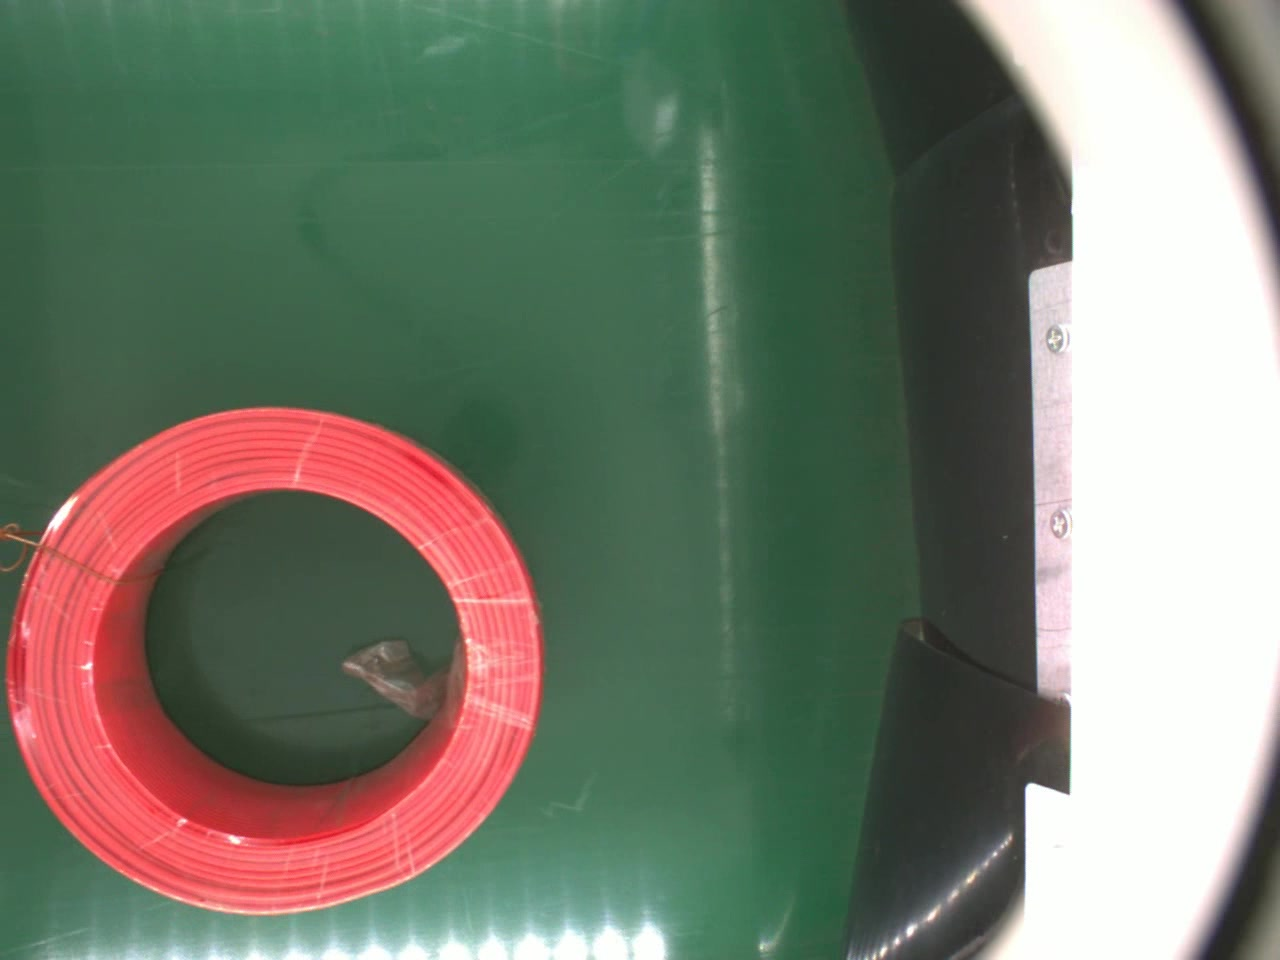red: (0, 402, 542, 915)
